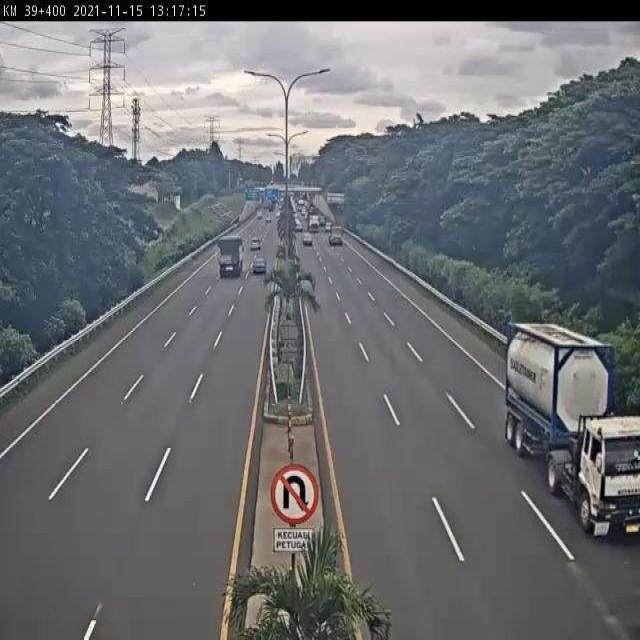truck: (505, 320, 640, 552), (217, 232, 244, 280)
